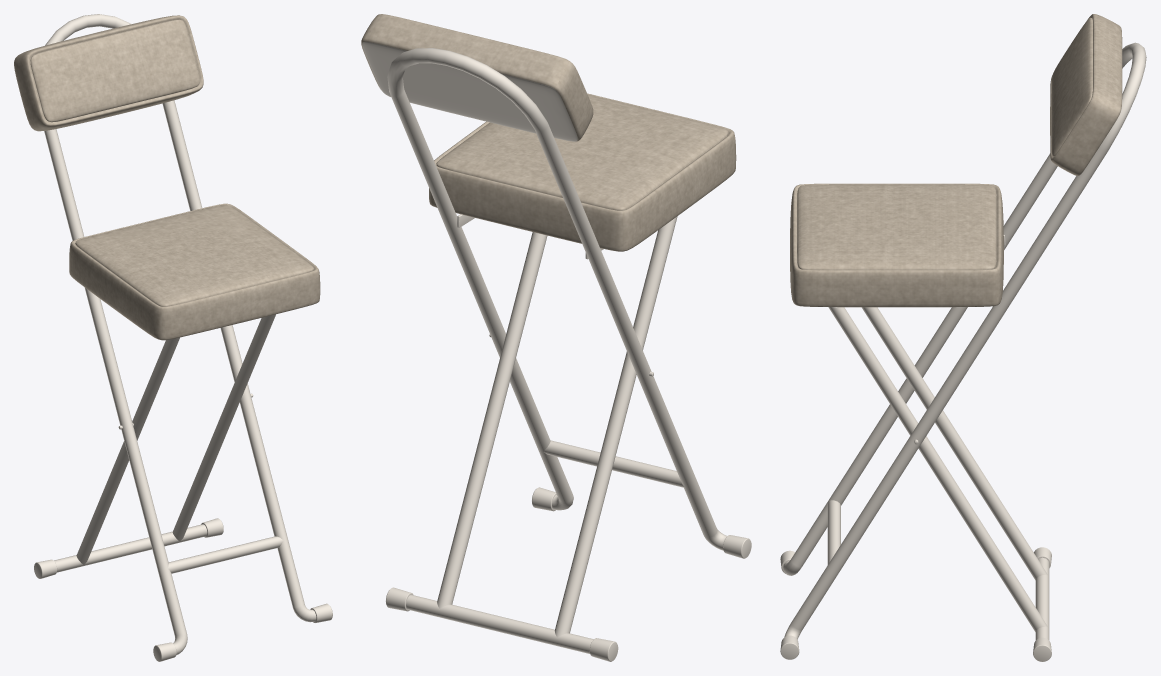
File: chair_51_02.001.fbx
3 views of the same model, side by side, from view 1: azimuth 30°, elevation 25°; view 2: azimuth 150°, elevation 25°; view 3: azimuth 270°, elevation 25° (orthographic). The views are drawn at different scales.
Parts seen in each view (by area): view 1: chair_51_02.001; view 2: chair_51_02.001; view 3: chair_51_02.001.
Boxes of the visible parts, bbox=[...] form: chair_51_02.001: bbox=[14, 14, 332, 661]; chair_51_02.001: bbox=[361, 14, 751, 661]; chair_51_02.001: bbox=[780, 14, 1146, 661].
Size of the model in its own units: 33.43 by 89.35 by 52.68.
Materials: 1 (1 with a texture image).
